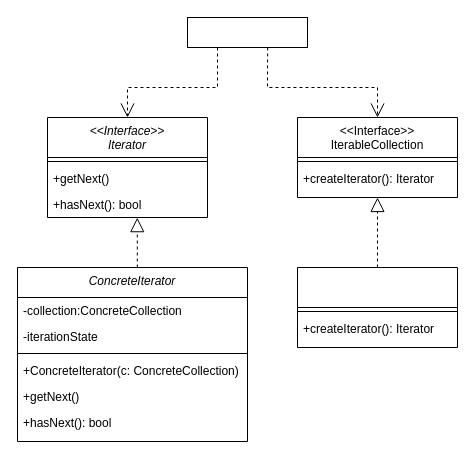
Image size: 475x459. Some labels were removed from this diagram. The box of each missing label's shape, as (x1, y1, x2, y2) in pixels:
Client: (186, 16, 308, 48)
ConcreteCollection: (296, 266, 458, 348)
